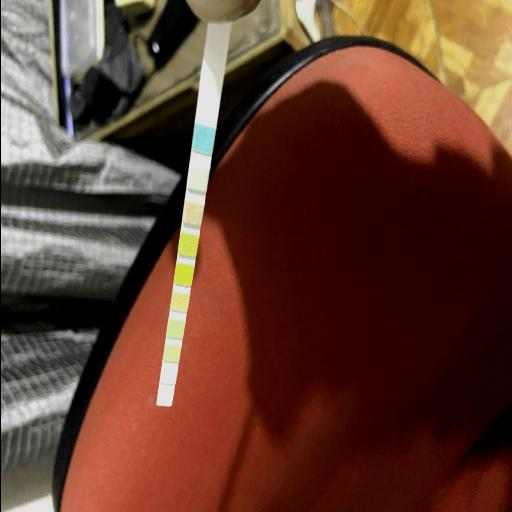Bilirubin: (189, 169, 206, 188)
Blood: (175, 266, 191, 282)
Glucose: (194, 130, 212, 150)
Ketone: (184, 204, 200, 222)
Leukocytes: (158, 394, 171, 404)
Nitrite: (161, 370, 175, 382)
Protein: (168, 322, 182, 336)
SpGravity: (180, 237, 196, 253)
Urobilinogen: (164, 348, 178, 360)
pH: (172, 294, 186, 310)
strip: (155, 26, 229, 407)
